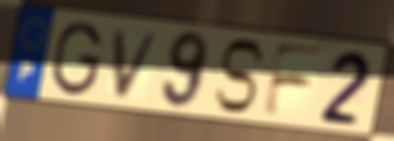2: (313, 47, 376, 131)
9: (161, 29, 213, 113)
F: (259, 40, 329, 120)
G: (49, 19, 105, 98)
S: (211, 37, 267, 116)
V: (112, 28, 165, 102)
